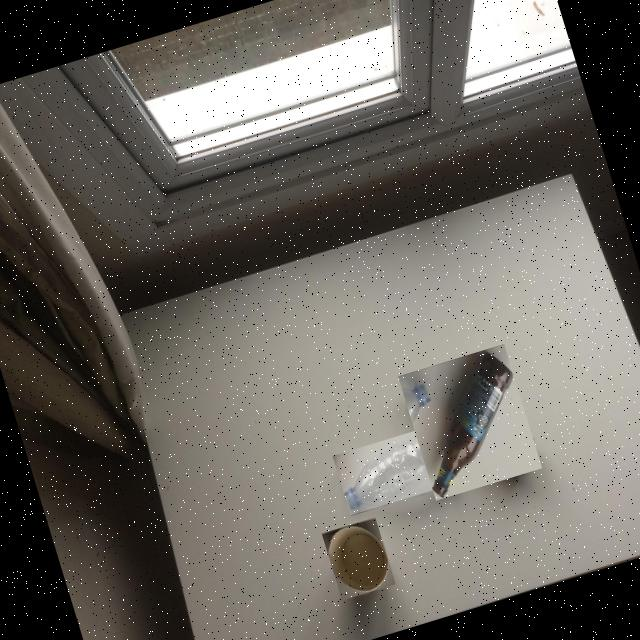Clear plastic bottle: (344, 427, 449, 512)
Glass bottle: (432, 351, 514, 498)
Paper cup: (329, 526, 389, 592)
